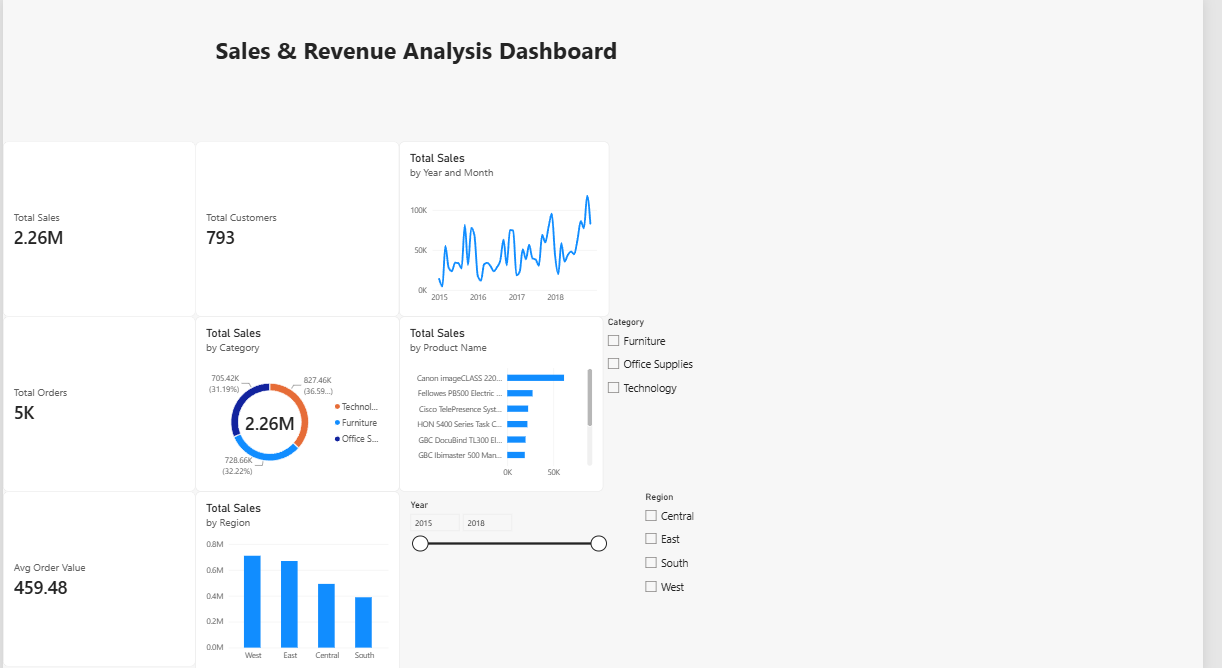

What the dashboard file says about the page in this screenshot:
{"tool":"powerbi","page":{"name":"Page 1","canvas":[1920,1080],"ordinal":0},"visuals":[{"type":"cardVisual","fields":{"Data":["train.Total Sales"]},"box":[0,228,308,280],"z":0},{"type":"cardVisual","fields":{"Data":["train.Total Orders"]},"box":[0,508,308,280],"z":1},{"type":"cardVisual","fields":{"Data":["train.Avg Order Value"]},"box":[0,788,308,280],"z":2},{"type":"cardVisual","fields":{"Data":["train.Total Customers"]},"box":[308,228,326,280],"z":3},{"type":"lineChart","fields":{"Category":["train.Order Date.Variation.Date Hierarchy.Year","train.Order Date.Variation.Date Hierarchy.Month"],"Y":["train.Total Sales"]},"box":[634,228,336,280],"z":4},{"type":"clusteredBarChart","fields":{"Category":["train.Product Name"],"Y":["train.Total Sales"]},"box":[634,508,326,280],"z":5},{"type":"donutChart","fields":{"Category":["train.Category"],"Y":["train.Total Sales"]},"box":[308,508,326,280],"z":6},{"type":"clusteredColumnChart","fields":{"Category":["train.Region"],"Y":["train.Total Sales"]},"box":[308,788,326,292],"z":7},{"type":"slicer","fields":{"Values":["train.Region"]},"box":[1020,788,325,292],"z":8},{"type":"slicer","fields":{"Values":["train.Category"]},"box":[960,508,325,268],"z":9},{"type":"slicer","fields":{"Values":["train.Order Date.Variation.Date Hierarchy.Year"]},"box":[644,800,325,280],"z":10},{"type":"textbox","box":[0,0,1102,160],"z":11}]}

Visuals, with their boxes in screenshot pixels (x1, y1, x2, y2), scaled from the page's 1920x1080 canvas onto the 1222x668 screenshot:
cardVisual - train.Total Sales: {"x1": 0, "y1": 141, "x2": 196, "y2": 314}
cardVisual - train.Total Orders: {"x1": 0, "y1": 314, "x2": 196, "y2": 487}
cardVisual - train.Avg Order Value: {"x1": 0, "y1": 487, "x2": 196, "y2": 661}
cardVisual - train.Total Customers: {"x1": 196, "y1": 141, "x2": 404, "y2": 314}
lineChart - train.Order Date.Variation.Date Hierarchy.Year x train.Order Date.Variation.Date Hierarchy.Month: {"x1": 404, "y1": 141, "x2": 617, "y2": 314}
clusteredBarChart - train.Product Name x train.Total Sales: {"x1": 404, "y1": 314, "x2": 611, "y2": 487}
donutChart - train.Category x train.Total Sales: {"x1": 196, "y1": 314, "x2": 404, "y2": 487}
clusteredColumnChart - train.Region x train.Total Sales: {"x1": 196, "y1": 487, "x2": 404, "y2": 667}
slicer - train.Region: {"x1": 649, "y1": 487, "x2": 856, "y2": 667}
slicer - train.Category: {"x1": 611, "y1": 314, "x2": 818, "y2": 480}
slicer - train.Order Date.Variation.Date Hierarchy.Year: {"x1": 410, "y1": 495, "x2": 617, "y2": 667}
textbox: {"x1": 0, "y1": 0, "x2": 701, "y2": 99}
